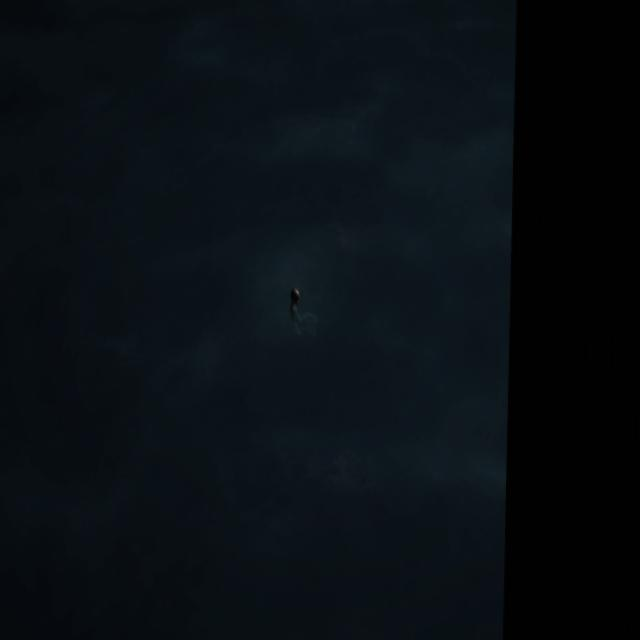Human: (284, 286, 332, 351)
